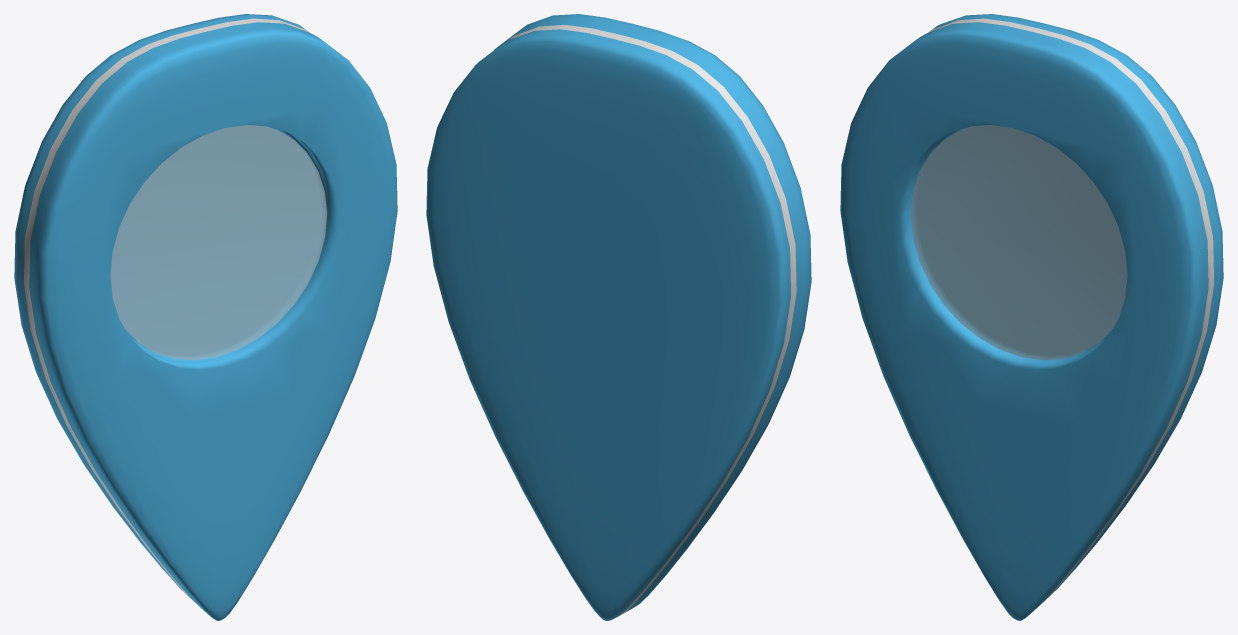
Rendered from Navigation Assets4.fbx.
3 views of the same model, side by side, from view 1: azimuth 30°, elevation 25°; view 2: azimuth 150°, elevation 25°; view 3: azimuth 330°, elevation 25° (orthographic).
Visible parts, largest first — view 1: Map Pointer, Icon; view 2: Map Pointer; view 3: Map Pointer, Icon.
Part boxes in pixels (box(x1,y1,x2,y2)): Map Pointer: box(14, 14, 397, 620); Icon: box(110, 125, 326, 360); Map Pointer: box(426, 14, 811, 620); Map Pointer: box(840, 14, 1223, 620); Icon: box(911, 125, 1127, 360).
Size of the model in its own units: 293 by 455 by 53.62.
